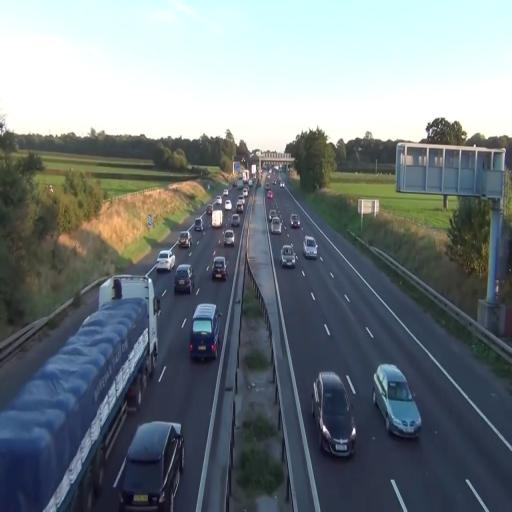vehicle: (114, 420, 184, 511), (312, 370, 358, 458), (372, 364, 422, 439), (188, 304, 220, 364), (174, 264, 192, 296), (156, 250, 176, 273), (211, 255, 228, 282), (280, 244, 297, 267), (303, 236, 319, 260), (211, 201, 223, 229), (222, 228, 236, 248)
